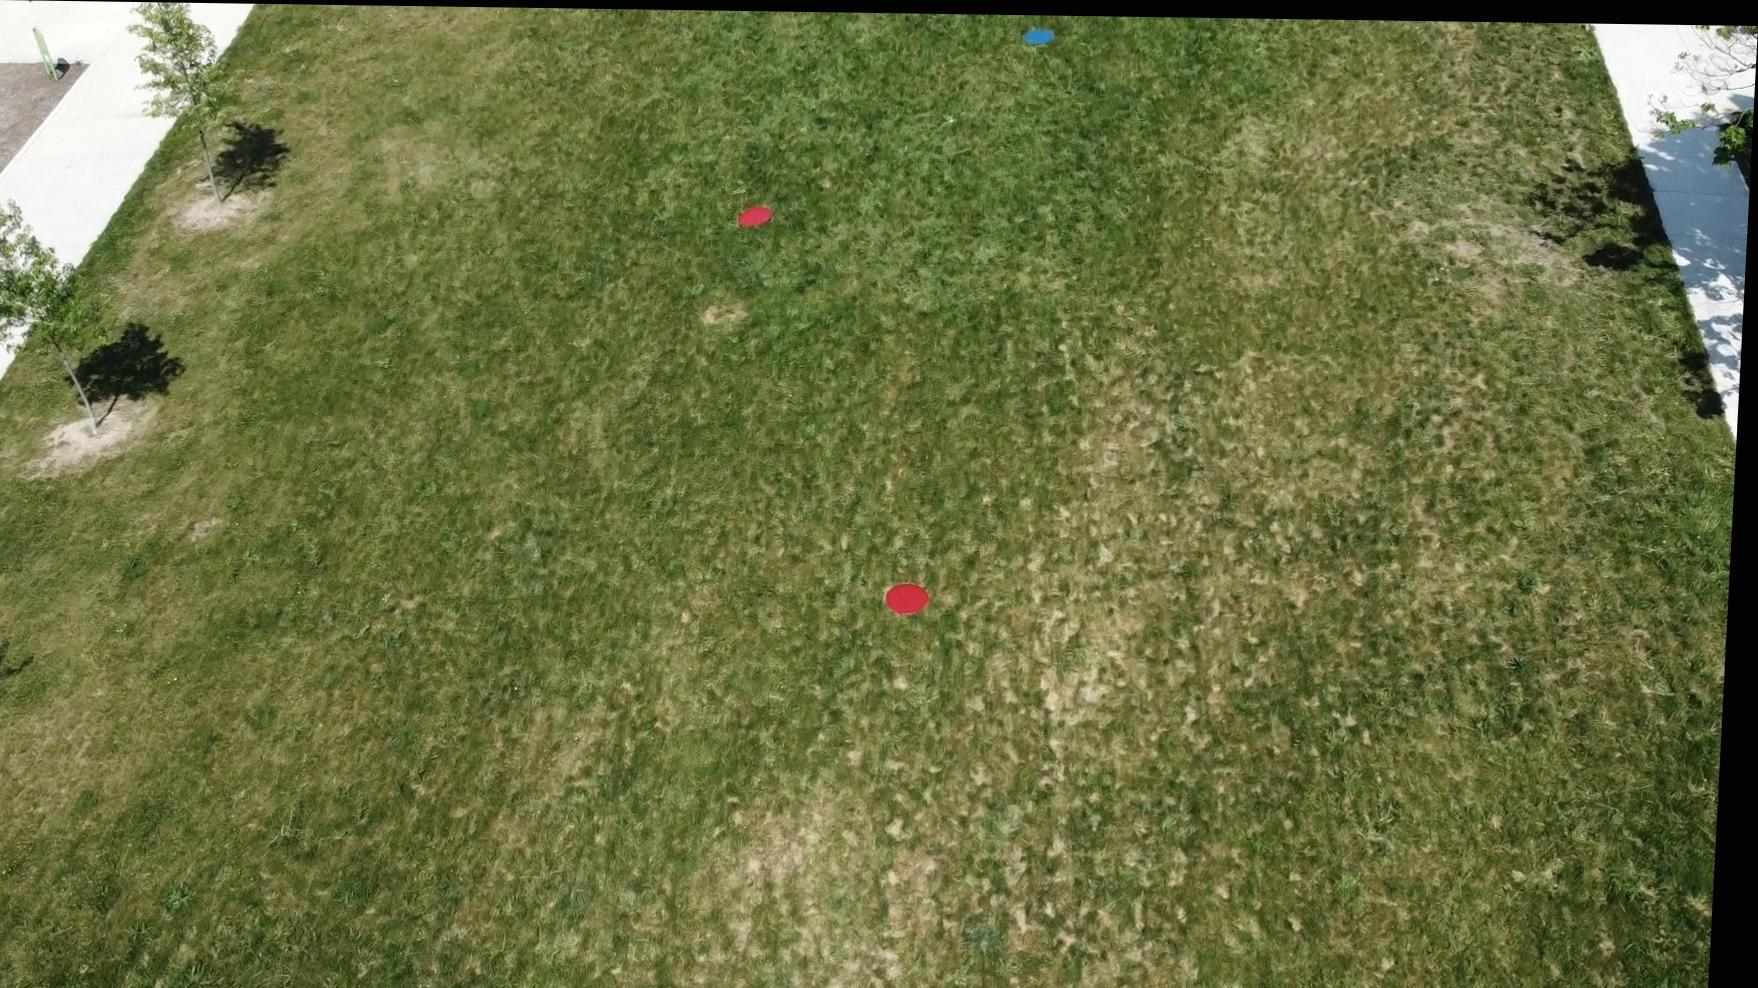Blue: (1019, 24, 1059, 45)
Red: (890, 580, 938, 614), (738, 202, 781, 228)
